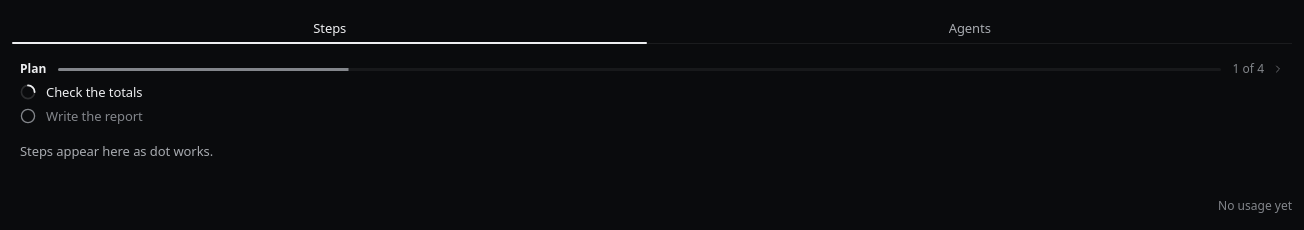
it: ActivityRail › pins a compact plan: the count, the item dot is on and the next, opening into the whole list
Expected: the text "1 of 4" is shown, top-left (1233, 61), bottom-right (1264, 77)
What coordinates should you click on to do the following:
click the button "Plan 1 of 4 Check the totals Write the report"
I would click on:
 (639, 69)
Its box is top-left (12, 52), bottom-right (1292, 134).
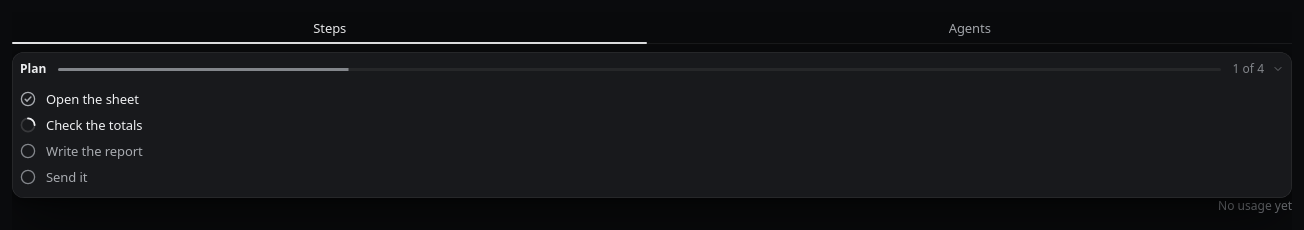
Expected: the list items read "Open the sheet", "Check the totals", "Write the report", "Send it", in this order, top-left (20, 90), bottom-right (139, 108); top-left (20, 116), bottom-right (142, 134); top-left (20, 142), bottom-right (143, 160); top-left (20, 168), bottom-right (87, 186)
